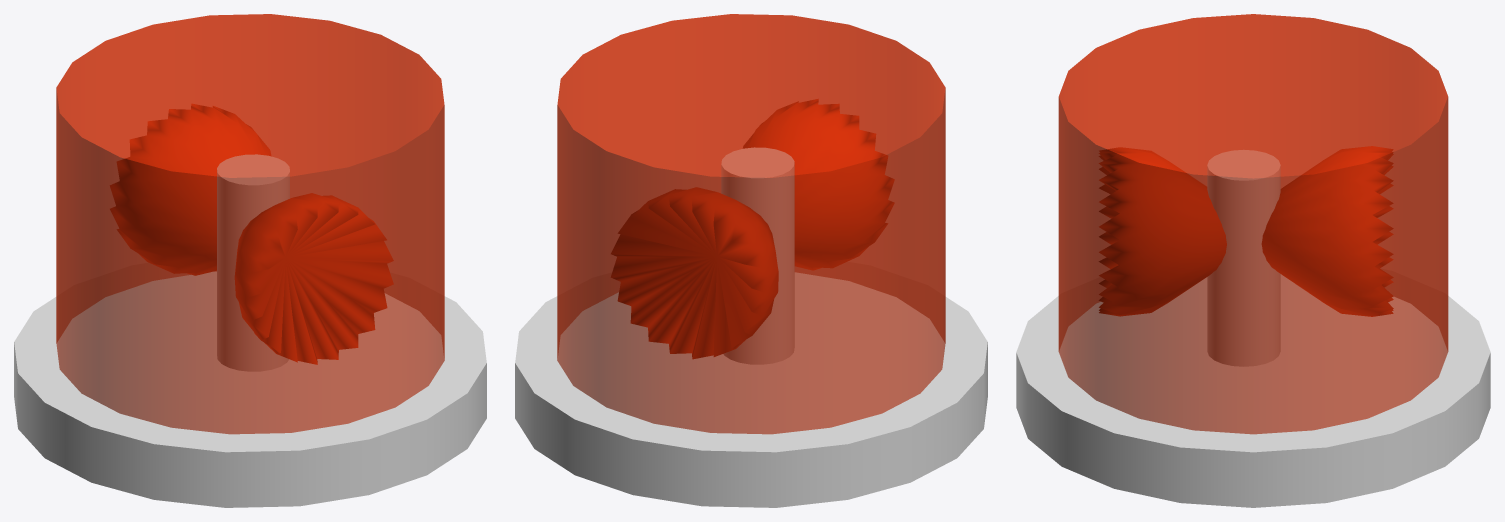
File: SpinningLights.fbx
3 views of the same model, side by side, from view 1: azimuth 30°, elevation 25°; view 2: azimuth 150°, elevation 25°; view 3: azimuth 270°, elevation 25° (orthographic).
Parts seen in each view (by area): view 1: pCylinder3, pCone4; view 2: pCylinder3, pCone4; view 3: pCylinder3, pCone4.
Part boxes in pixels (box(x1,y1,x2,y2)): pCylinder3: box(14, 14, 486, 507); pCone4: box(110, 104, 393, 371); pCylinder3: box(515, 14, 987, 507); pCone4: box(611, 99, 894, 364); pCylinder3: box(1016, 14, 1490, 507); pCone4: box(1099, 146, 1393, 366).
Size of the model in its own units: 4.07 by 2.95 by 4.07.
